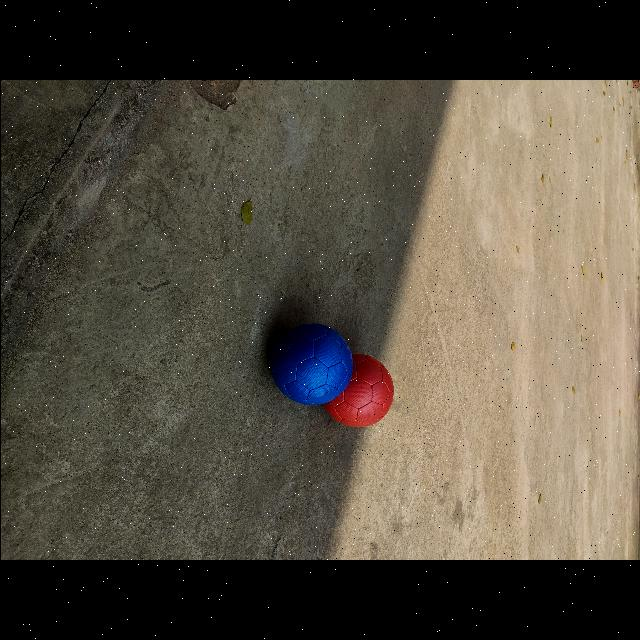B: (270, 324, 352, 405)
R: (324, 354, 393, 428)
